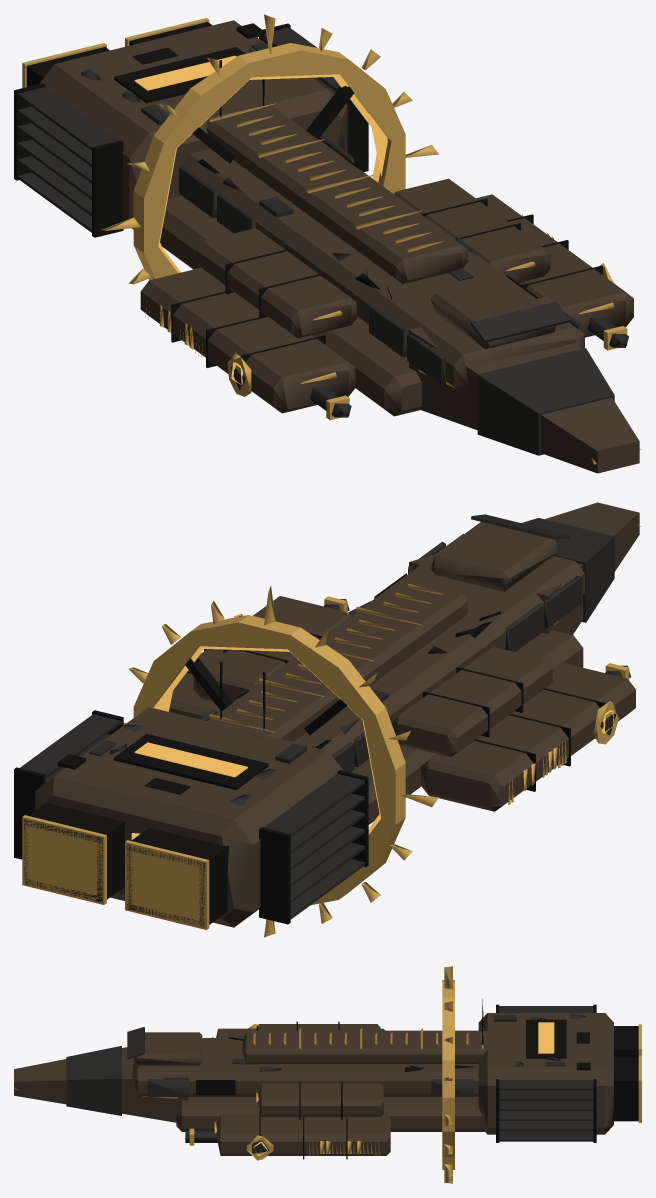
The model's file is goniec-wybudzeni-trade-34-lod1.glb.
3 renders of one model, top to bottom at view 1: azimuth 30°, elevation 25°; view 2: azimuth 150°, elevation 25°; view 3: azimuth 270°, elevation 25°, orthographic. The views are drawn at different scales.
Size of the model in its own units: 6.83 by 6.08 by 16.
